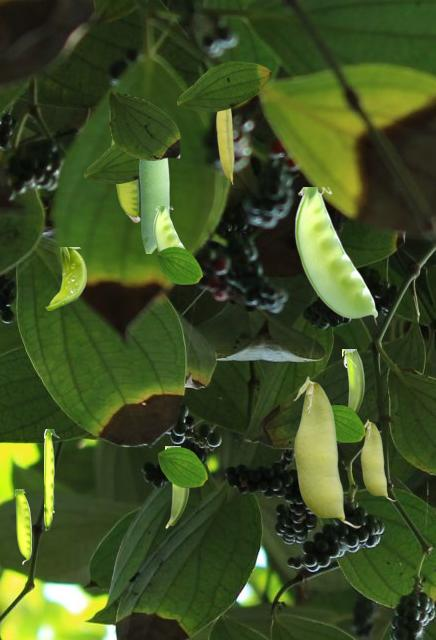pea: (294, 187, 376, 325), (293, 376, 360, 527), (360, 419, 395, 500), (139, 159, 168, 252), (45, 247, 85, 309), (111, 139, 139, 221), (165, 446, 189, 527), (342, 349, 365, 412), (44, 429, 58, 529), (153, 206, 184, 250), (216, 109, 233, 183), (15, 489, 30, 563)
